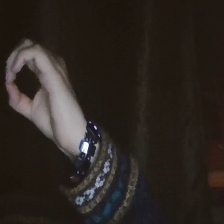O: (1, 32, 100, 151)
